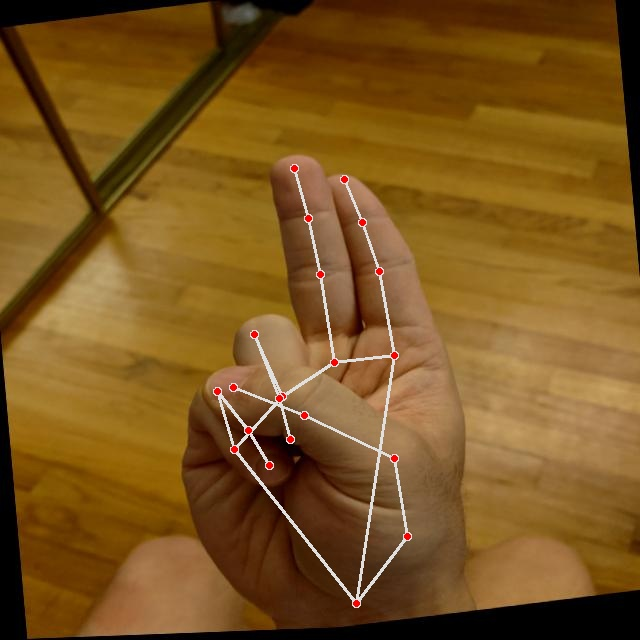U: (144, 128, 487, 635)
